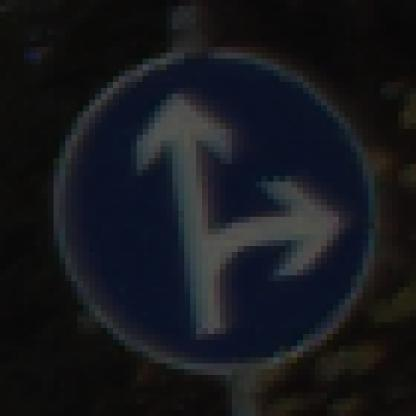Straight or Right: (43, 42, 381, 382)
